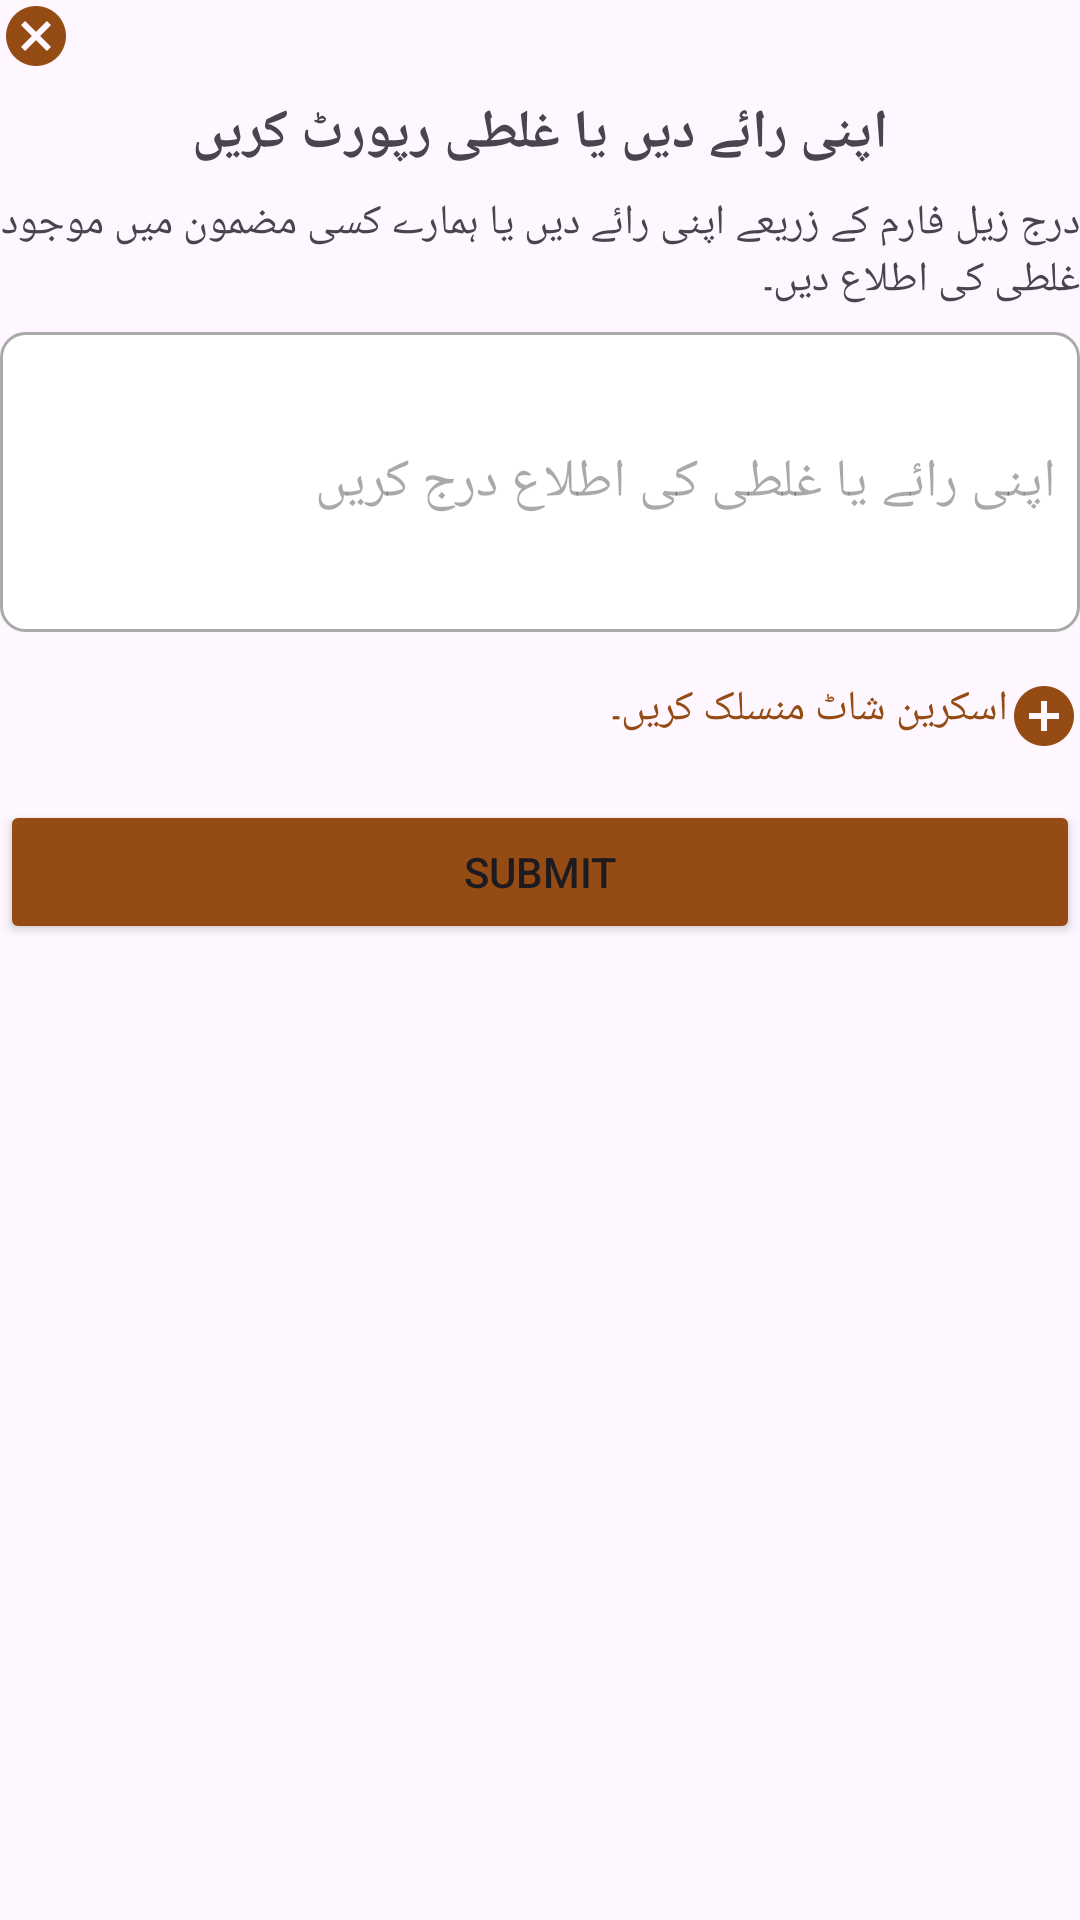

Screen size 1080 × 1920. Icon name, then its box in pixels as (x1, y1, x2, y2):
Close: (6, 6, 66, 66)
